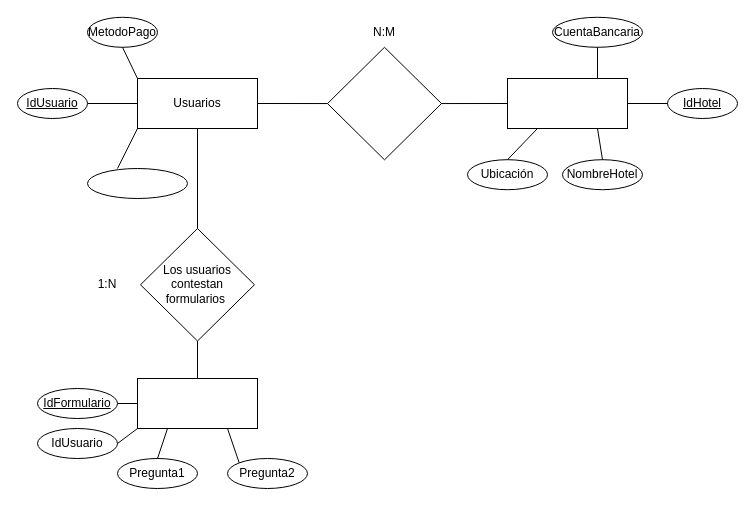
Image size: 755x507. Some labels were removed from this diagram. The centre of each missing label's shape, as x and y in pixels:
"Formulario" goes at pixel 197 403.
"Hoteles" goes at pixel 567 103.
"Los usuarios reservan hoteles y los hoteles son reservados por los usuarios" goes at pixel 384 103.
"NombreUsuario" goes at pixel 137 183.
